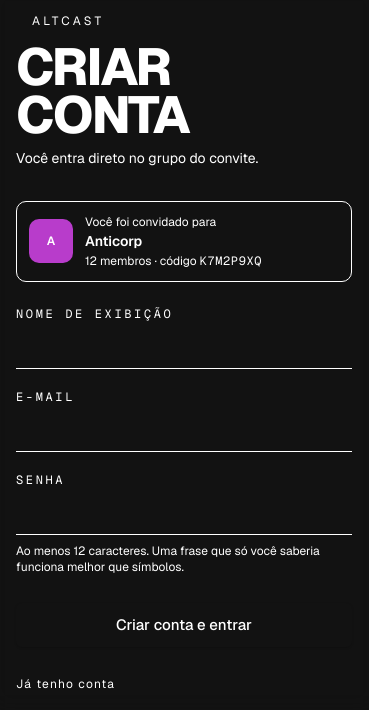
Test: telas de autenticacao › cadastro preserva o código ao alternar com o login
Check: the text "K7M2P9XQ" is shown, box x1=200 y1=253 x2=262 y2=269
Check: the field labelled "Nome de exibição" is shown, box x1=16 y1=330 x2=352 y2=369
Click the button "Já tenho conta": (66, 684) x1=16 y1=675 x2=115 y2=694
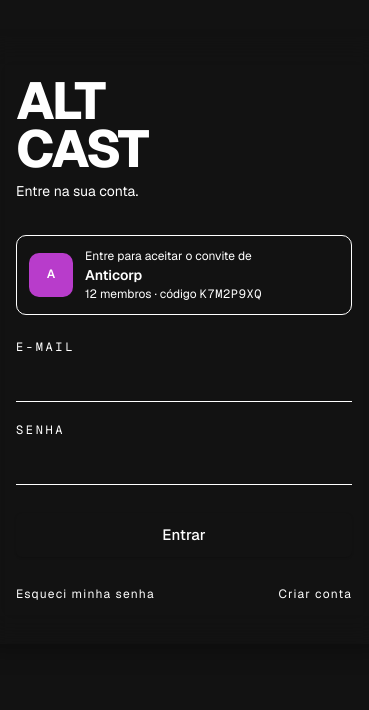
Check: the password field labelled "Senha" is shown, box x1=16 y1=446 x2=352 y2=485
